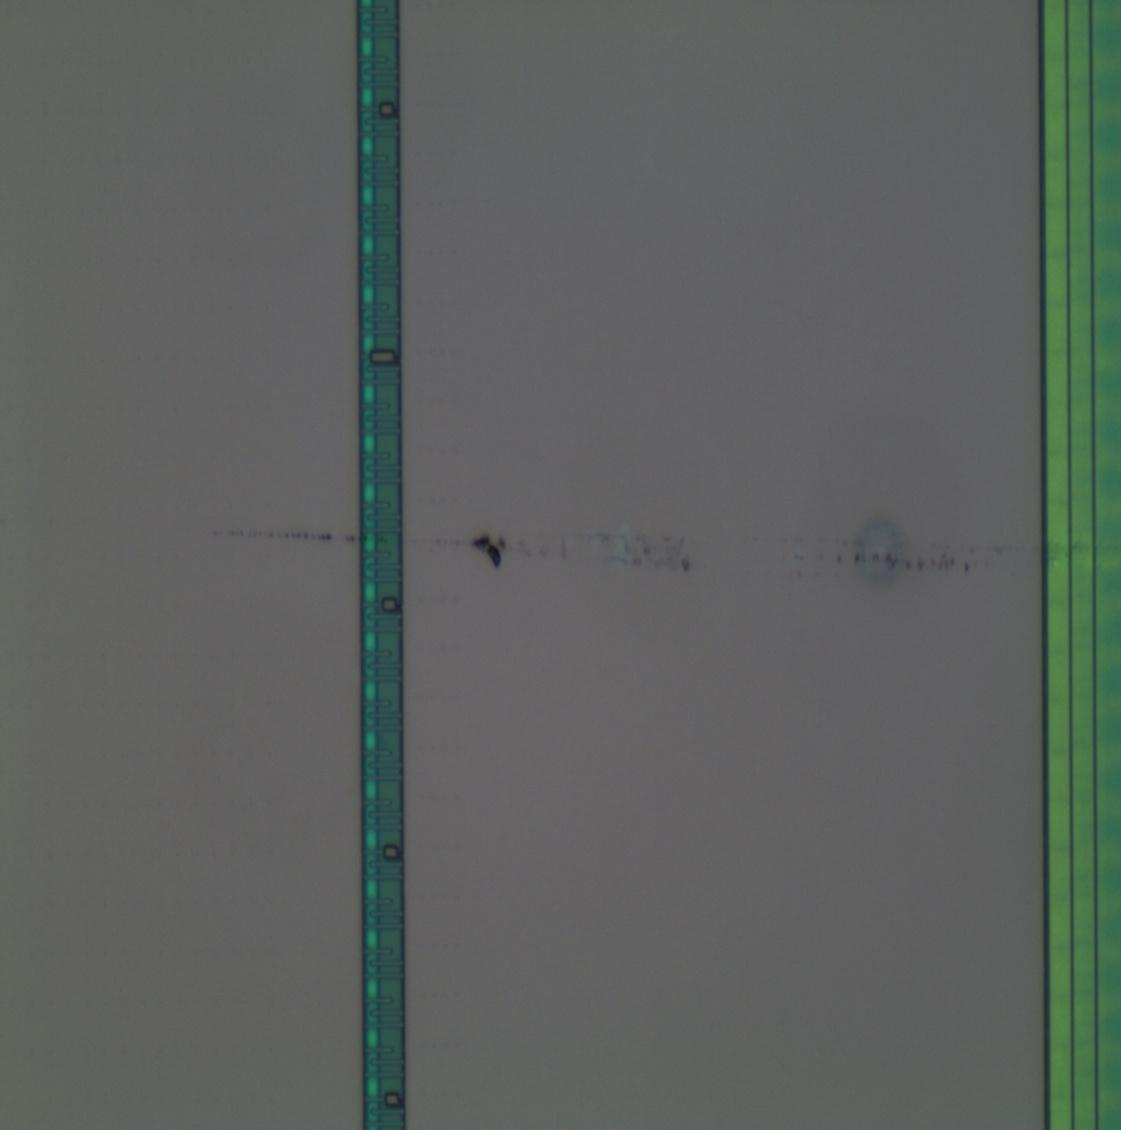SCRATCH: (153, 506, 1121, 601)
